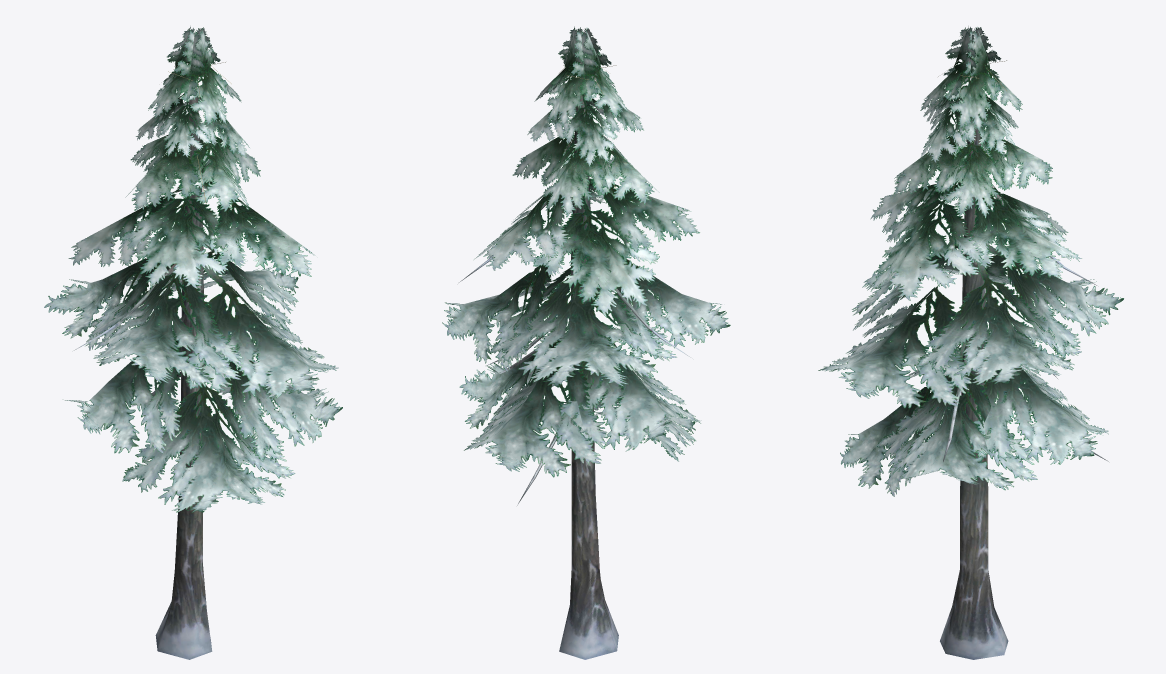
File: map_114_shu_2.fbx
3 views of the same model, side by side, from view 1: azimuth 30°, elevation 25°; view 2: azimuth 150°, elevation 25°; view 3: azimuth 270°, elevation 25° (orthographic).
Visible parts, largest first — view 1: map_114_shu_2; view 2: map_114_shu_2; view 3: map_114_shu_2.
Boxes of the visible parts, left/top/right/bottom form: map_114_shu_2: left=44, top=26, right=342, bottom=659; map_114_shu_2: left=442, top=26, right=730, bottom=659; map_114_shu_2: left=818, top=26, right=1123, bottom=659.
Size of the model in its own units: 1.7 by 3.45 by 1.75.
